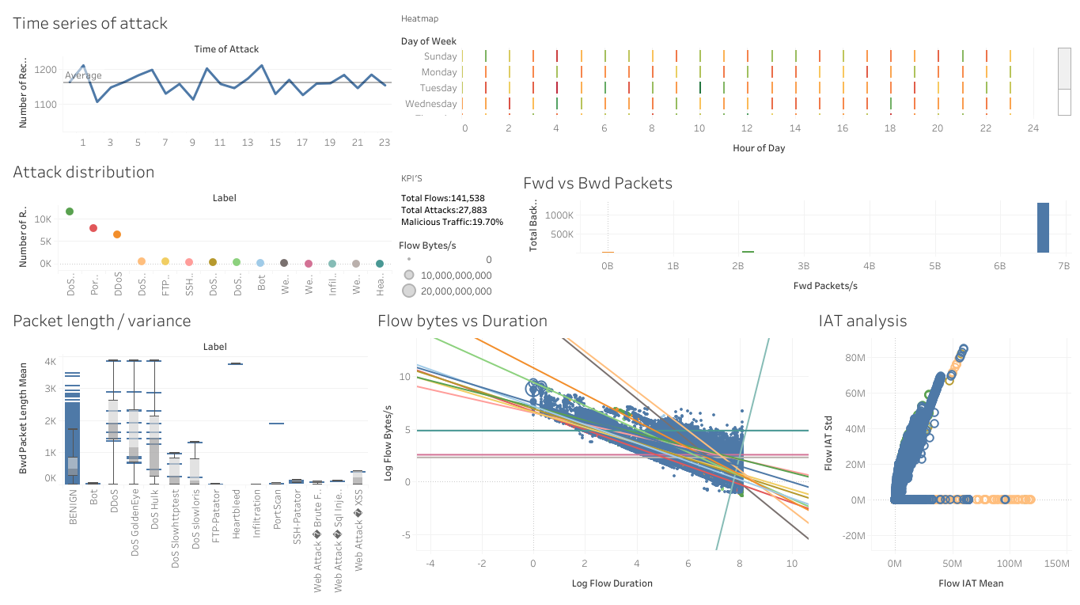

Layout of this report page (visuals, bound fields, positions):
{"tool":"tableau","page":{"name":"Dashboard 1","canvas":[1366,768],"ordinal":0},"visuals":[{"type":"worksheet","title":"Time series of attack","mark":"Automatic","rows":["Calculation_71776182064713728"],"cols":["Time_of_Attack"],"box":[8,8,491.4,188]},{"type":"worksheet","title":"Time heatmap: Hour of day / Day of week","mark":"Automatic","rows":["Calculation_2029153170447265803"],"cols":["Calculation_2029153170447089674"],"box":[499.4,8,858.6,202]},{"type":"worksheet","title":"Attack distribution","mark":"Circle","rows":["Calculation_71776182064713728"],"cols":["Label"],"box":[8,196,491.4,188]},{"type":"worksheet","title":"KPI'S","mark":"Automatic","box":[499.4,210,153.6,88]},{"type":"worksheet","title":"Fwd vs Bwd Packets","mark":"Bar","rows":["Total Backward Packets"],"cols":["Fwd Packets/s"],"box":[653,210,705,174]},{"type":"legend","title":"Flow bytes vs Duration","param":"[federated.1l3fnnt0sedfqu18nh0kv1fp25hw].[sum:Flow Bytes/s:qk]","box":[499.4,298,153.6,86]},{"type":"worksheet","title":"Packet length / variance ","mark":"Automatic","rows":["Bwd Packet Length Mean"],"cols":["Label"],"box":[8,384,460.8,376]},{"type":"worksheet","title":"Flow bytes vs Duration","mark":"Automatic","rows":["Calculation_2029153170436718600"],"cols":["Calculation_2029153170436636679"],"box":[468.9,384,557.1,376]},{"type":"worksheet","title":"IAT analysis","mark":"Automatic","rows":["Flow IAT Std"],"cols":["Flow IAT Mean"],"box":[1026,384,332,376]}]}

Visuals, with their boxes in screenshot pixels (x1, y1, x2, y2), scaled from the page's 1366x768 canvas onto the 1080x605 screenshot:
"Time series of attack" worksheet: [6, 6, 395, 154]
"Time heatmap: Hour of day / Day of week" worksheet: [395, 6, 1074, 165]
"Attack distribution" worksheet (Circle marks): [6, 154, 395, 302]
"KPI'S" worksheet: [395, 165, 516, 235]
"Fwd vs Bwd Packets" worksheet (Bar marks): [516, 165, 1074, 302]
"Flow bytes vs Duration" legend: [395, 235, 516, 302]
"Packet length / variance " worksheet: [6, 302, 371, 599]
"Flow bytes vs Duration" worksheet: [371, 302, 811, 599]
"IAT analysis" worksheet: [811, 302, 1074, 599]
